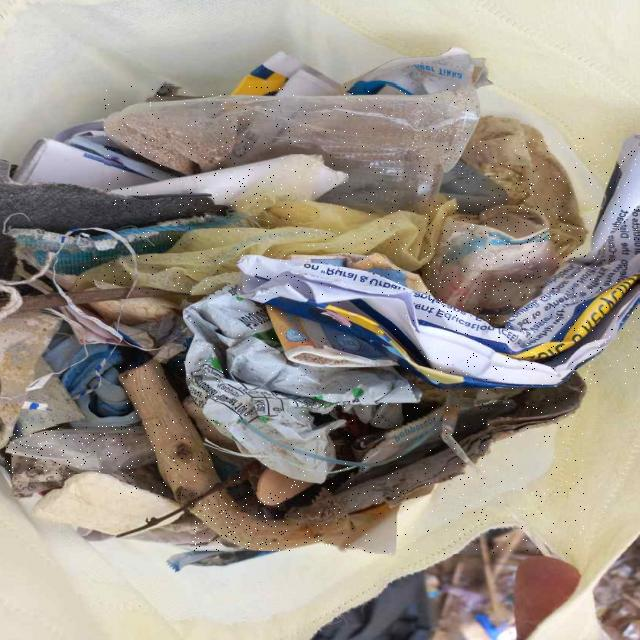biowaste: (120, 361, 219, 503), (190, 492, 352, 551)
other: (138, 198, 456, 293), (76, 258, 132, 289)
paper: (239, 138, 639, 387), (289, 380, 586, 554), (183, 286, 420, 482), (111, 154, 347, 214)
plastic: (104, 85, 479, 210), (422, 205, 560, 316), (5, 425, 155, 473)
